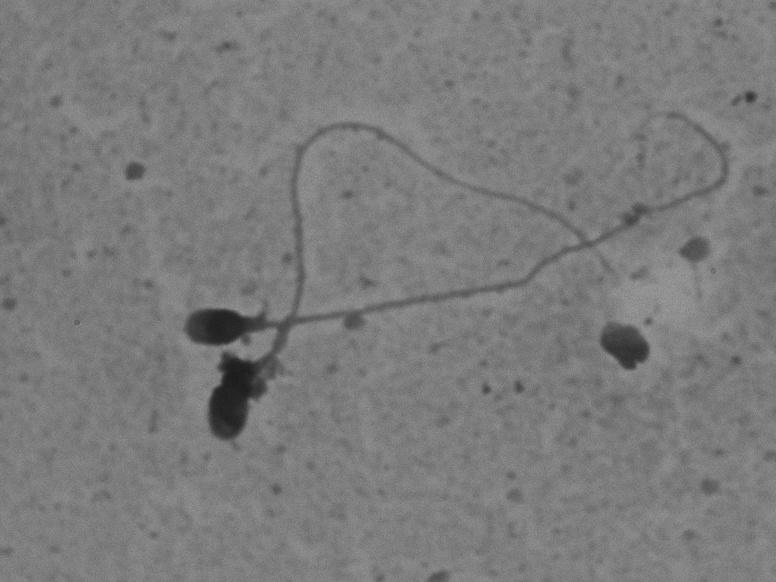Abnormal: (191, 114, 629, 458)
Normal: (168, 101, 743, 354)
